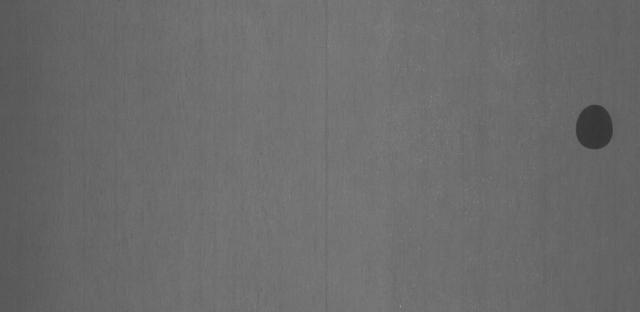oil_spot: (571, 94, 620, 163)
